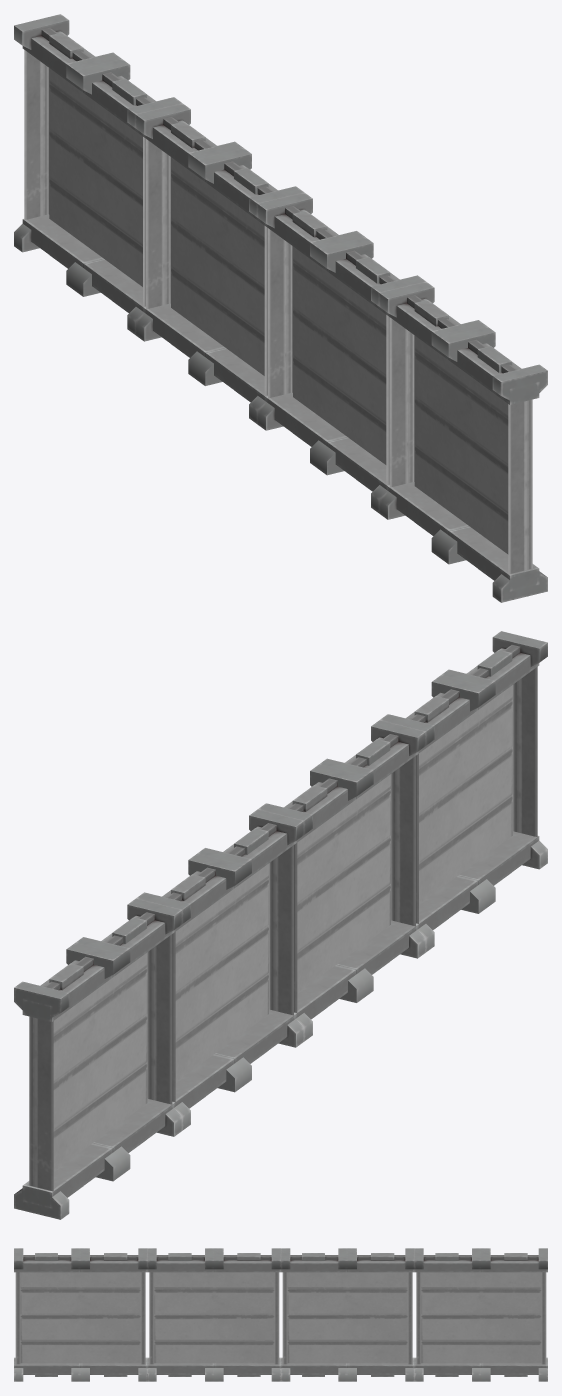
File: Pfb_JALB_WallPart2_Line__39.fbx
3 views of the same model, one above another, from view 1: azimuth 30°, elevation 25°; view 2: azimuth 150°, elevation 25°; view 3: azimuth 270°, elevation 25° (orthographic). The views are drawn at different scales.
Parts seen in each view (by area): view 1: MAT_Roof; view 2: MAT_Roof; view 3: MAT_Roof.
Part boxes in pixels (x1=…): MAT_Roof: x1=14, y1=14, x2=547, y2=602; MAT_Roof: x1=14, y1=631, x2=547, y2=1219; MAT_Roof: x1=14, y1=1248, x2=547, y2=1381.
Bounding box in the file's own units: 0.8873 × 4 × 16.
1 material, 1 textured.
